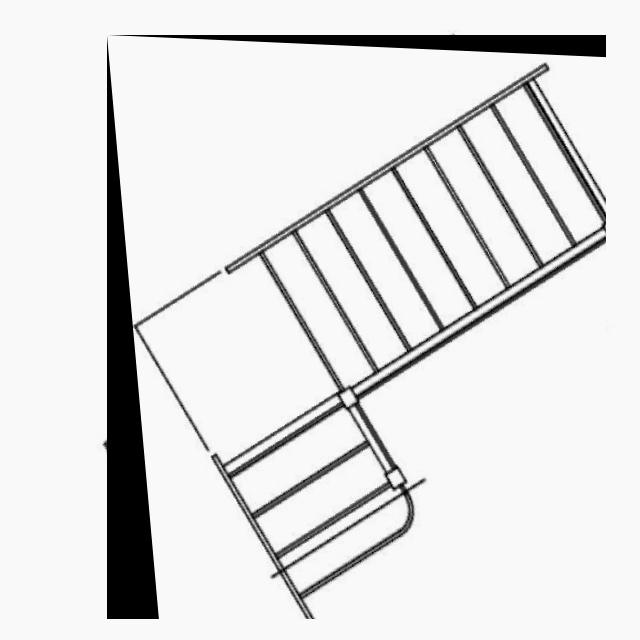stair: (107, 35, 606, 619)
